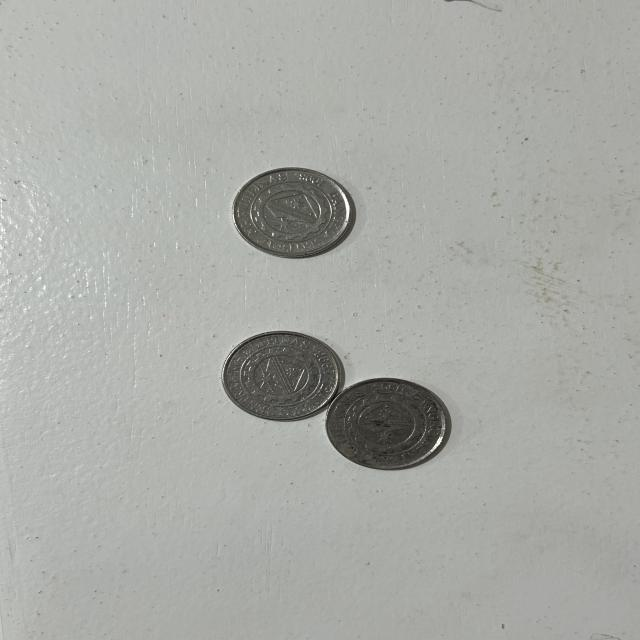1_Old_Back: (244, 177, 335, 246), (342, 393, 433, 457), (237, 345, 332, 405)
